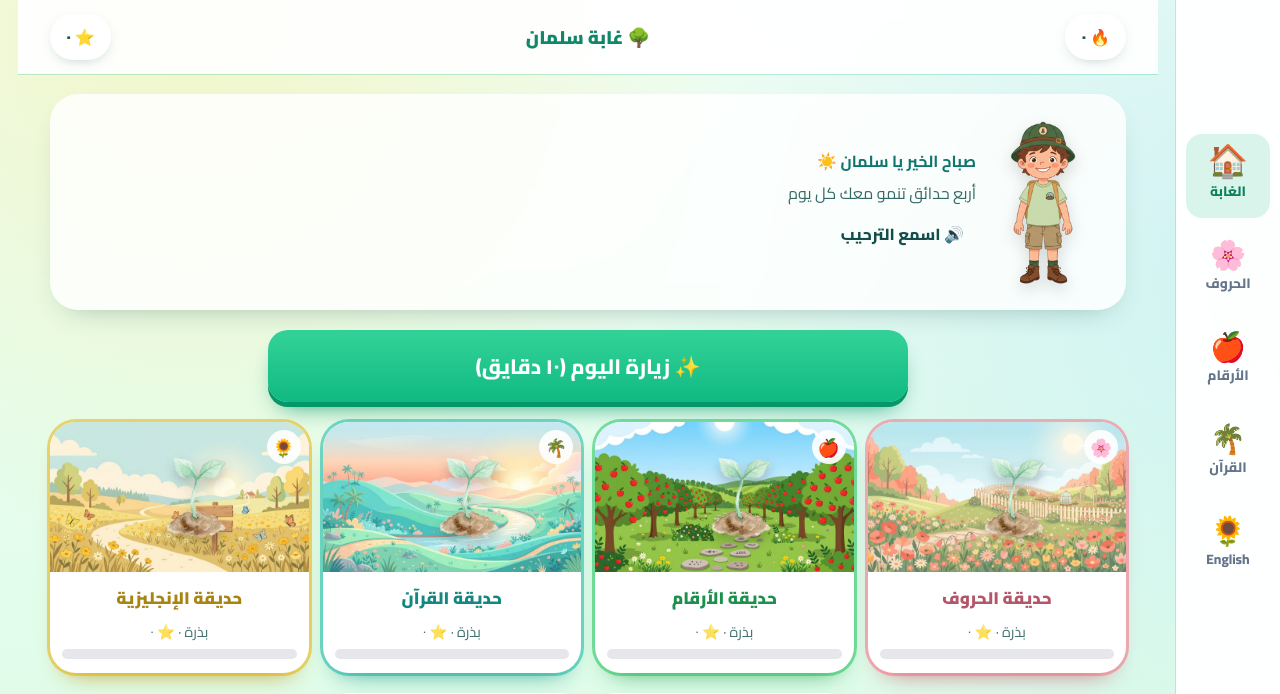
حديقة سلمان — الواجهة › الخيار الخاطئ لا يعطي نجمة ولا يعاقب، والصحيح يعطي نجمتين ويحفظ الحالة
The width and height of the screenshot is (1280, 694).
Click the button "✨ زيارة اليوم (١٠ دقايق)": (588, 366) [268, 330, 908, 402]
(page scrolled)
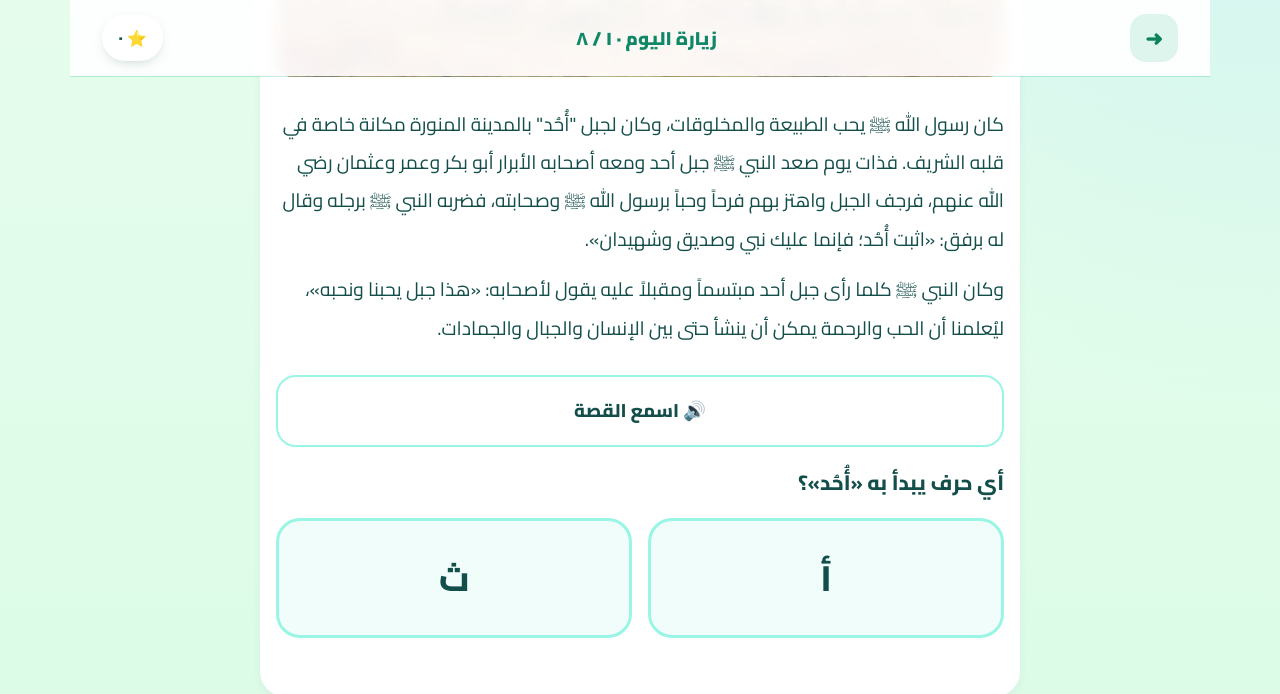
Click the button "ث": (454, 578) [276, 518, 632, 638]
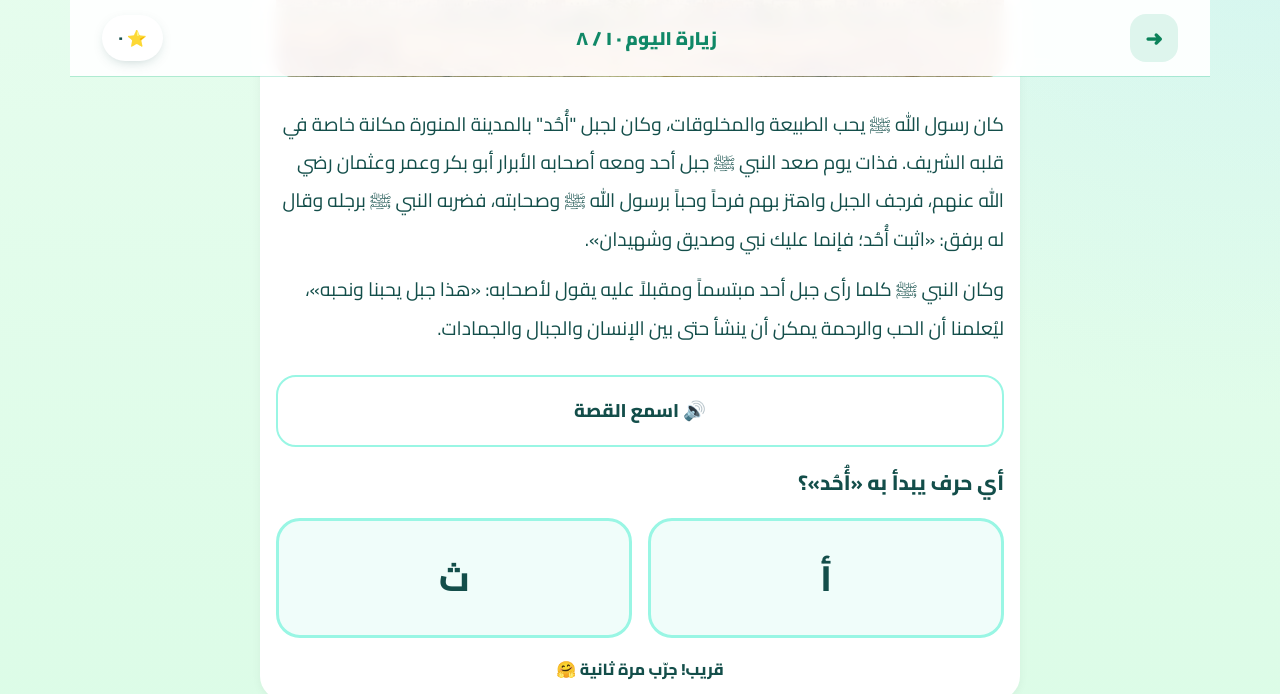
Expected: the text "قريب! جرّب مرة ثانية 🤗" is shown, [556, 654, 724, 684]
Click the button "أ": (826, 578) [648, 518, 1004, 638]
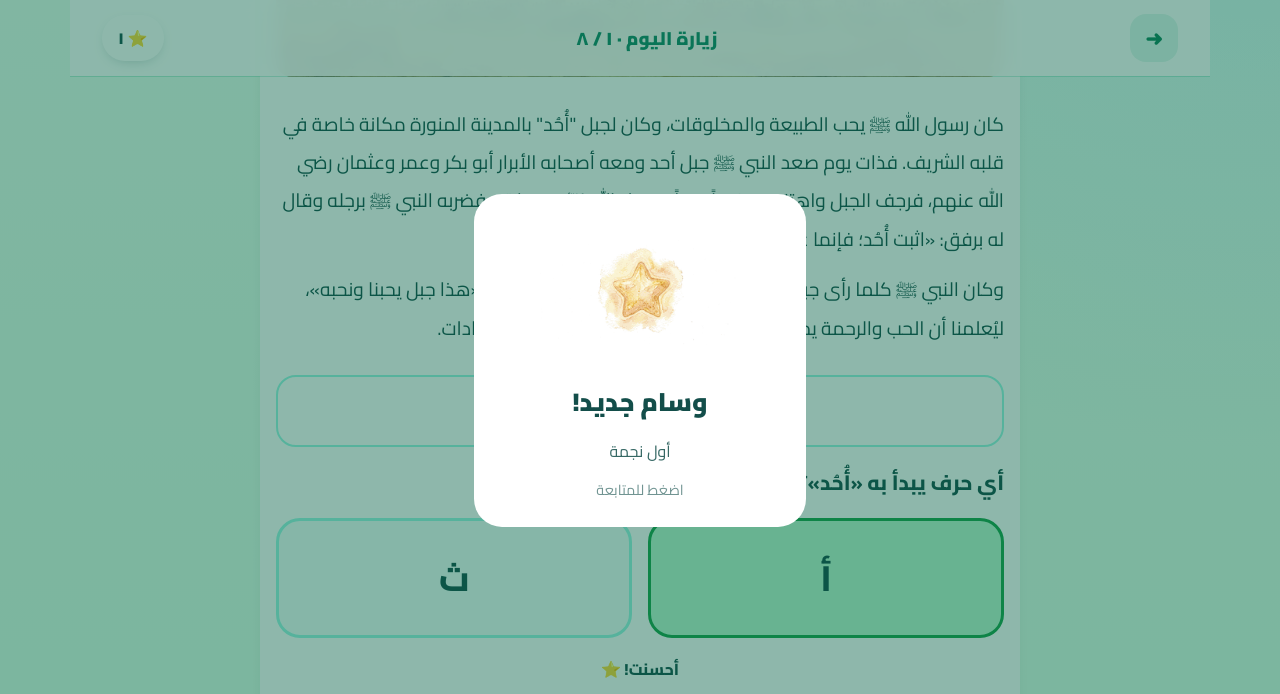
Expected: the text "أحسنت! ⭐" is shown, [601, 654, 679, 684]
